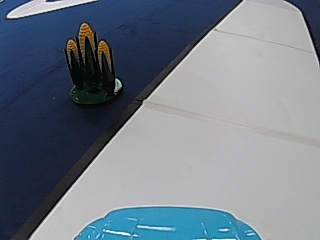corn: (62, 19, 125, 103)
